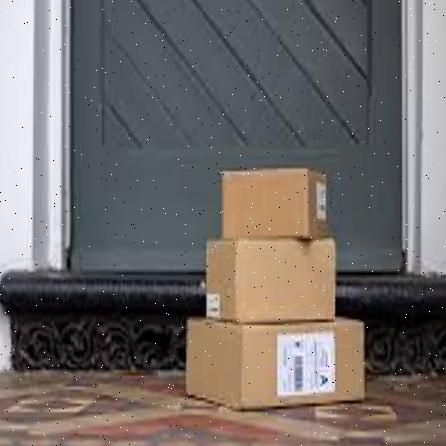Other: (179, 315, 366, 412), (202, 237, 337, 328), (217, 165, 331, 245)
